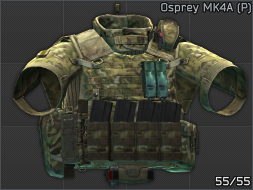CQC Osprey MK4A plate carrier Protection, MTP: (0, 0, 253, 190)
